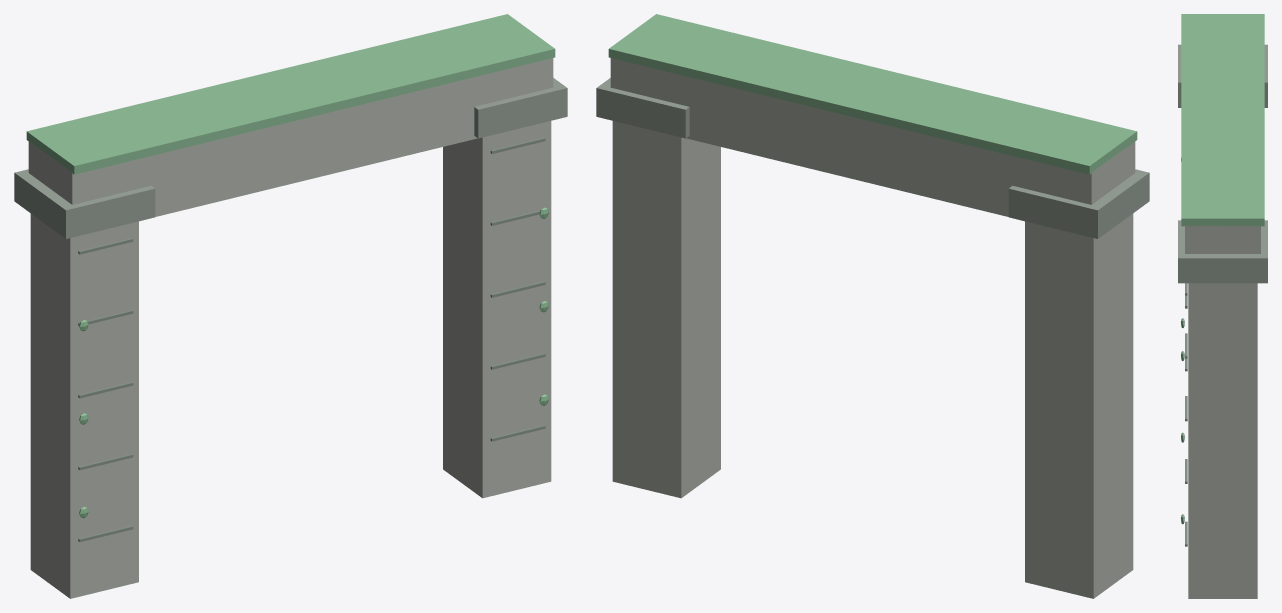
The model's file is portal_marco.glb.
3 views of the same model, side by side, from view 1: azimuth 30°, elevation 25°; view 2: azimuth 150°, elevation 25°; view 3: azimuth 270°, elevation 25° (orthographic). The views are drawn at different scales.
Visible parts, largest first — view 1: portal_marco; view 2: portal_marco; view 3: portal_marco.
Boxes of the visible parts, box(x1,y1,x2,y2) form: portal_marco: box(14, 14, 567, 598); portal_marco: box(596, 14, 1149, 598); portal_marco: box(1178, 14, 1267, 598).
Size of the model in its own units: 7.3 by 6.06 by 1.3.
